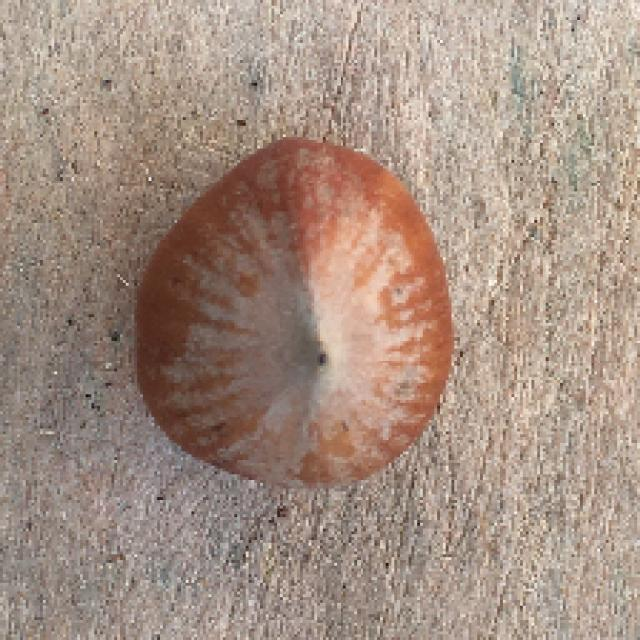qualityHazelnut: (126, 133, 462, 495)
